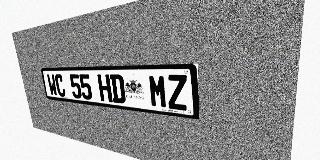5: (79, 74, 93, 100), (69, 74, 82, 99)
C: (54, 74, 66, 97)
D: (109, 74, 126, 104)
H: (97, 74, 113, 102)
M: (148, 74, 168, 109)
W: (46, 74, 58, 96)
Z: (166, 75, 188, 111)
